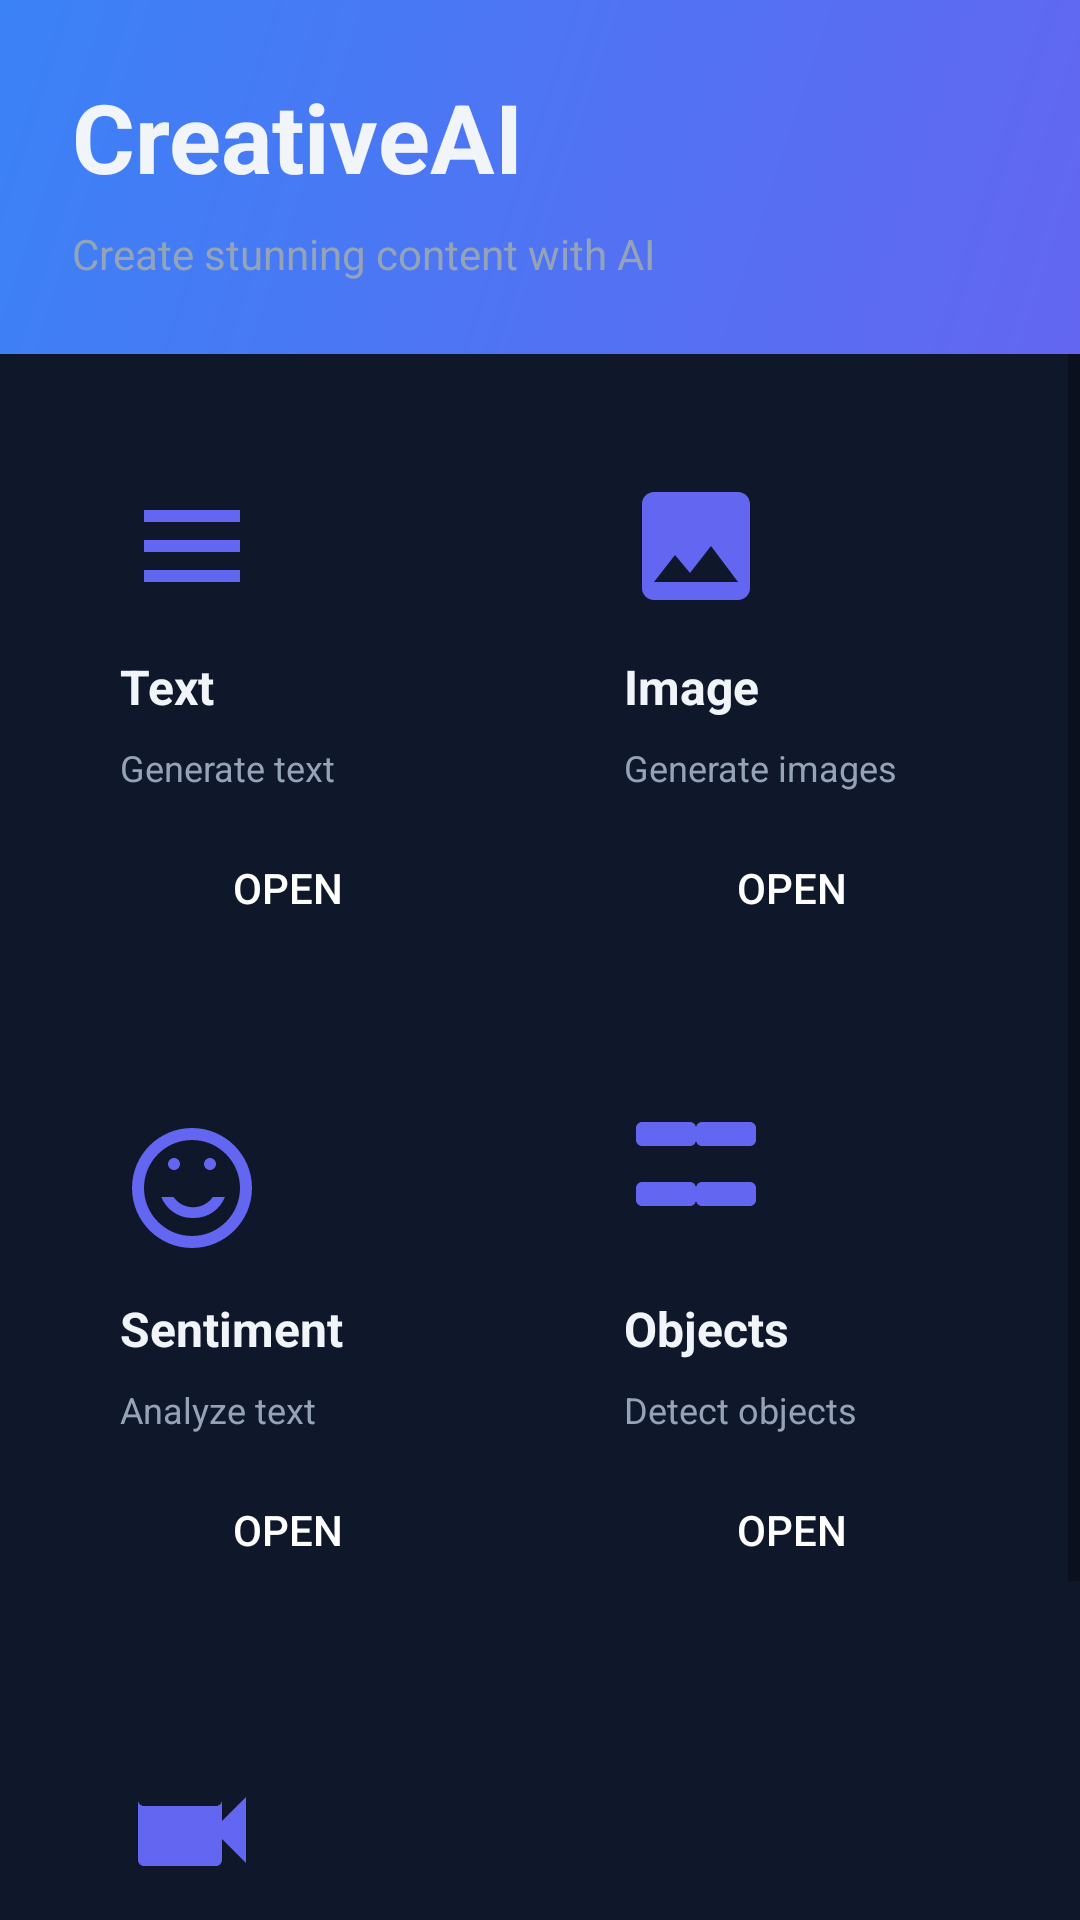

Named icons in this screenshot (1080*1920) and their centers, point (x, y):
Video analysis: point (192, 1831)
